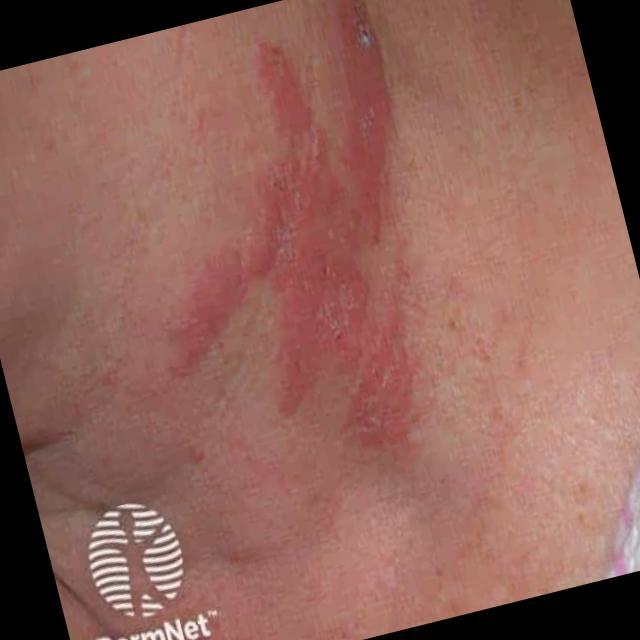Eczema: (137, 4, 501, 518)
